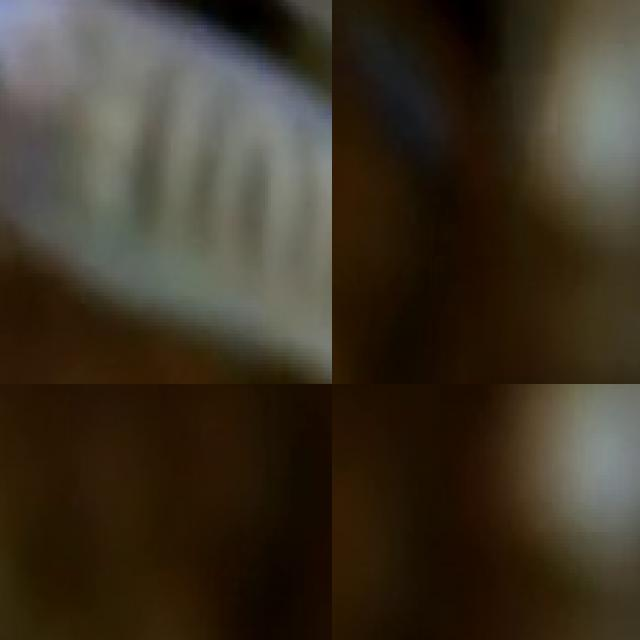fish: (0, 0, 332, 384)
